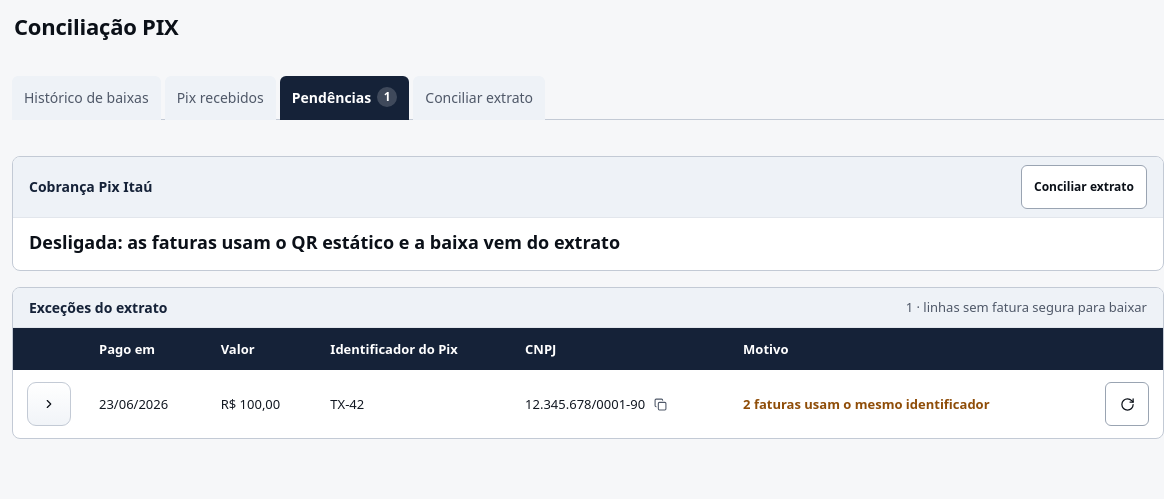
Test: Conciliação PIX › exceção persistida: motivo, CNPJ e dia do extrato; Tentar de novo sem fatura segura explica na linha
Check: the text "2 faturas usam o mesmo identificador" is shown, box [743,395,990,413]
Check: the text "12.345.678/0001-90" is shown, box [525,393,671,415]
Click the button named "Tentar de novo a linha 8" at (1127,404), box [1105,382,1149,426]
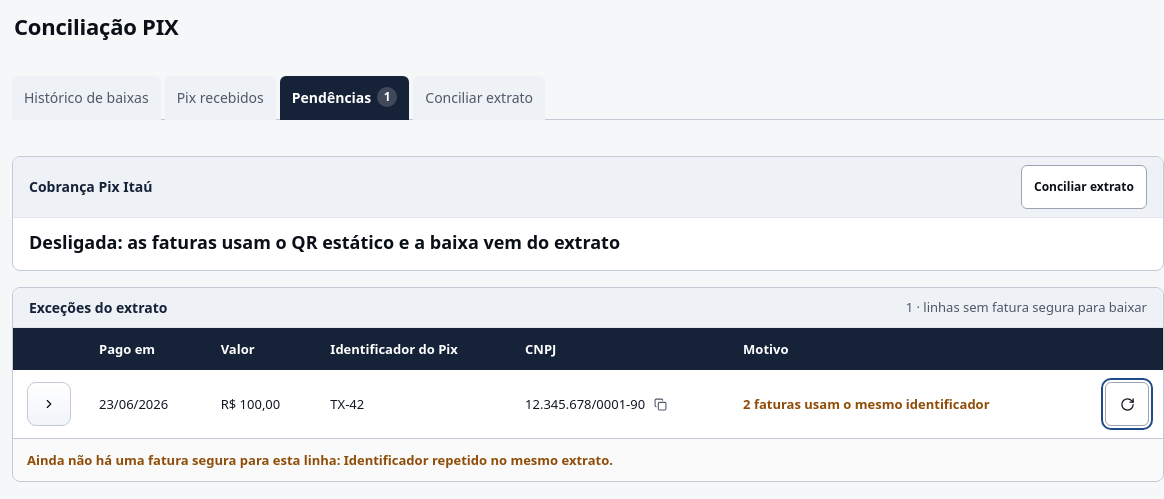
Check: the text "Ainda não há uma fatura segura para esta linha: Identificador repetido no mesmo extrato." is shown, box [27,451,613,469]
